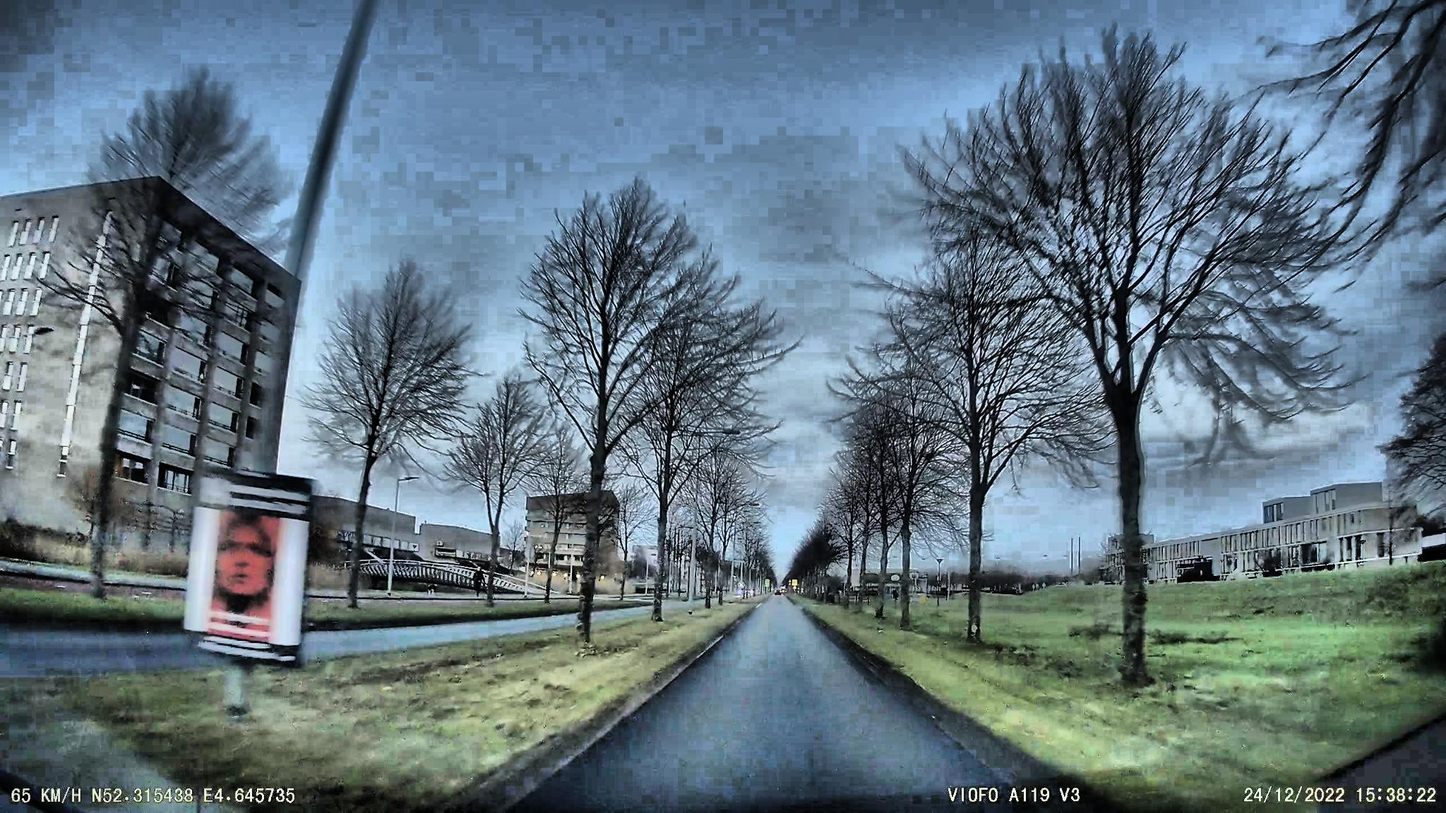Roads: (535, 604, 1072, 813)
